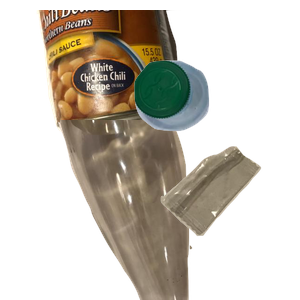glass: (56, 120, 241, 300)
metal: (34, 10, 213, 135)
plastic: (132, 58, 300, 182)
trash: (158, 144, 300, 300)
